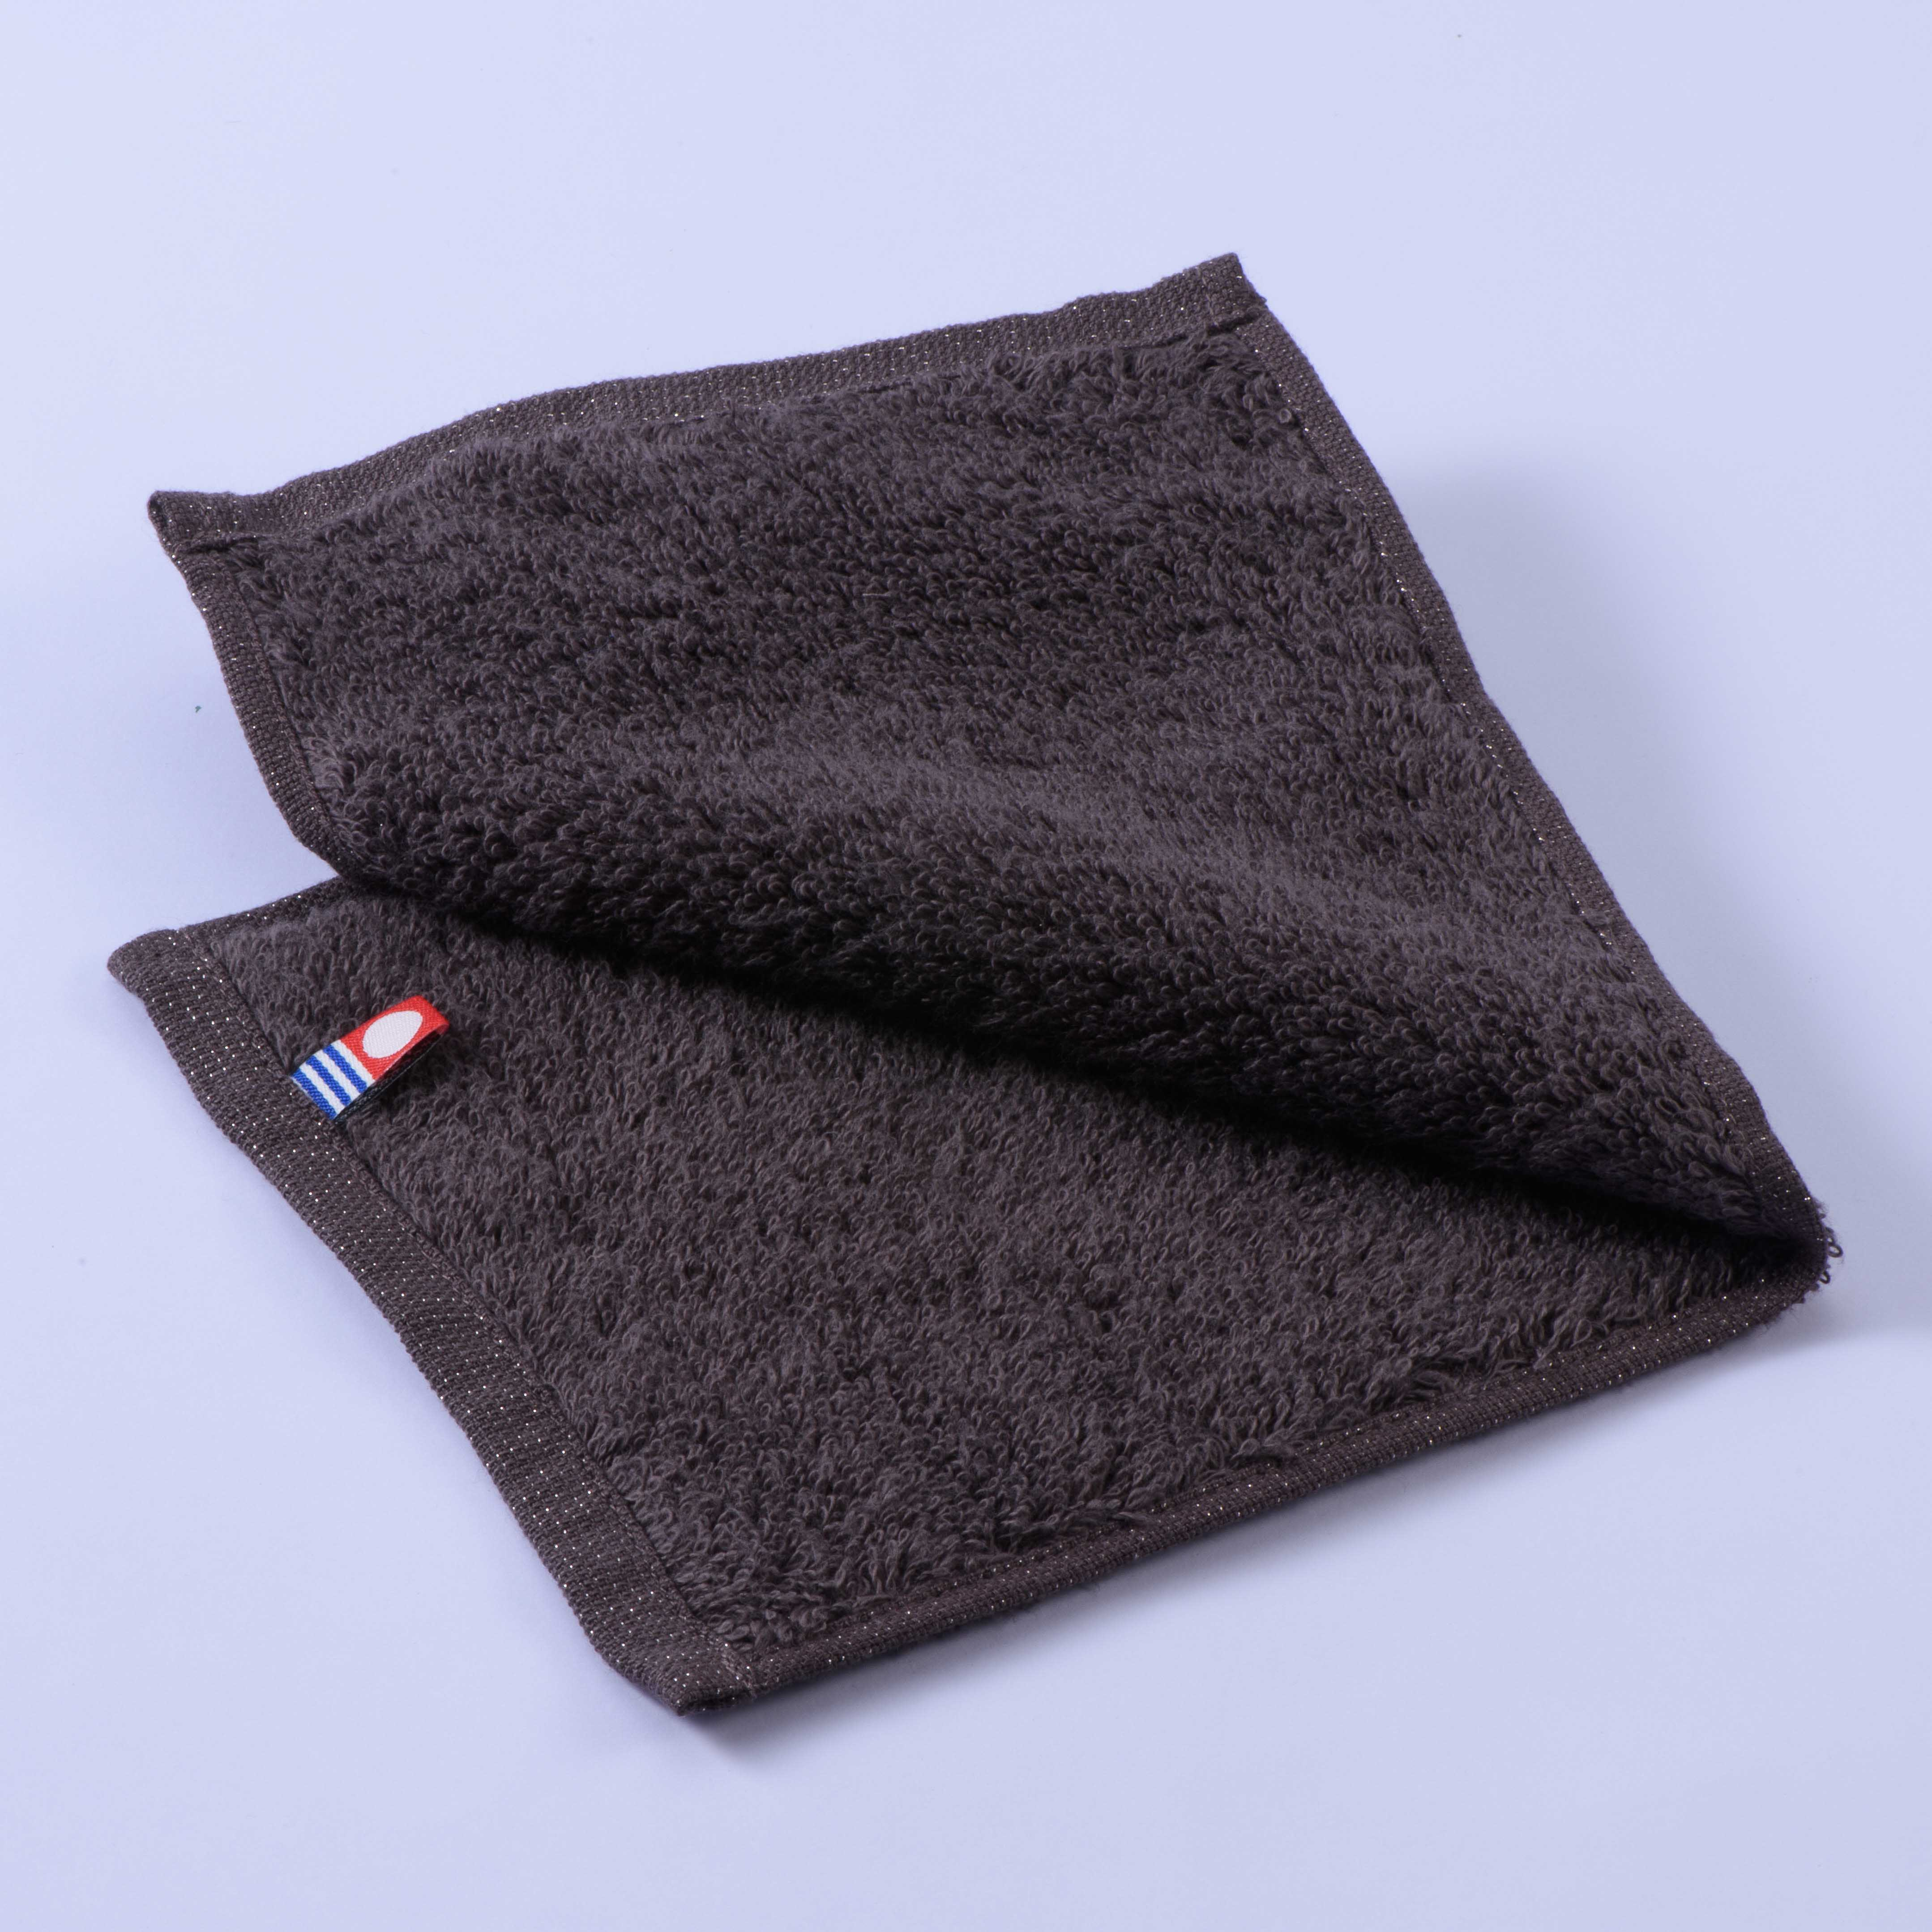flexible: (108, 241, 1858, 1736)
